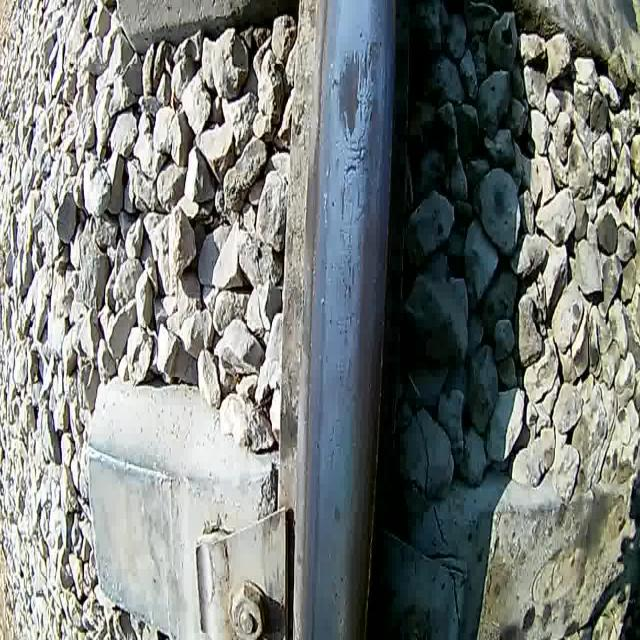Cracks: (338, 72, 374, 226)
Squats: (326, 28, 390, 182)
